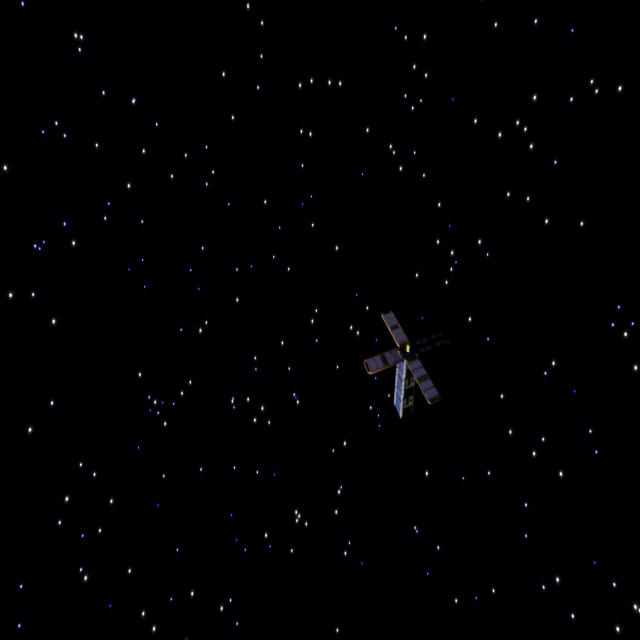satellite: (358, 302, 453, 427)
